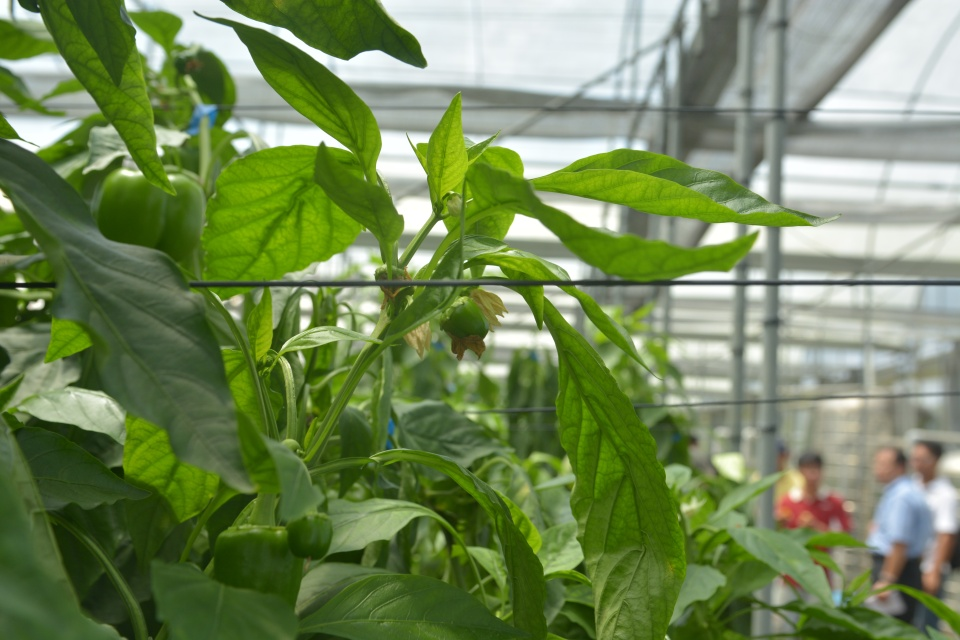fruit: (92, 162, 205, 263)
immature: (212, 521, 304, 615), (437, 296, 489, 362), (283, 508, 336, 561)
